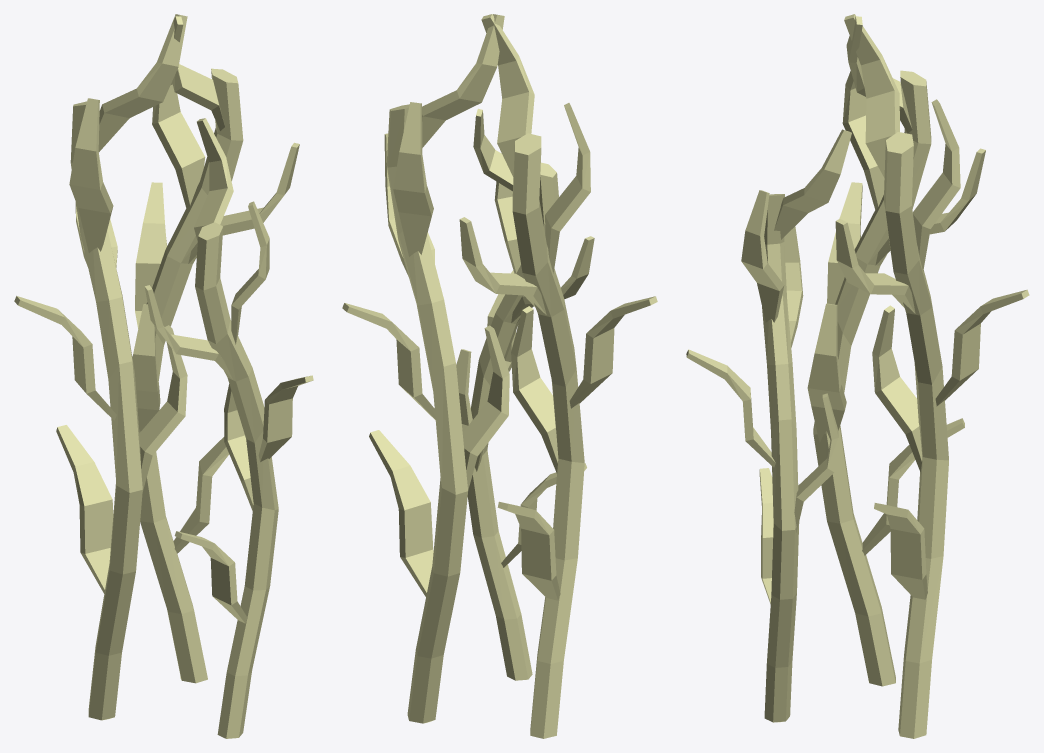
Rendered from seaweed.gltf.
3 views of the same model, side by side, from view 1: azimuth 30°, elevation 25°; view 2: azimuth 150°, elevation 25°; view 3: azimuth 270°, elevation 25° (orthographic).
Parts seen in each view (by area): view 1: Cylinder (×3), Cube.5 (×3), Cube (×3), Cube.4 (×3), Cube.3 (×3), Cube.1 (×3), Cube.2 (×2); view 2: Cylinder (×3), Cube (×3), Cube.4 (×3), Cube.5 (×3), Cube.1 (×3), Cube.3 (×2), Cube.2 (×3); view 3: Cylinder (×3), Cube.1 (×3), Cube.5 (×3), Cube.4 (×3), Cube (×3), Cube.3 (×3), Cube.2 (×3).
Part boxes in pixels (x1=…): Cylinder (×3): x1=70, y1=68, x2=278, y2=738; Cube.5 (×3): x1=69, y1=82, x2=269, y2=344; Cube (×3): x1=56, y1=425, x2=247, y2=623; Cube.4 (×3): x1=98, y1=14, x2=233, y2=241; Cube.3 (×3): x1=14, y1=182, x2=313, y2=462; Cube.1 (×3): x1=132, y1=304, x2=253, y2=510; Cube.2 (×2): x1=144, y1=142, x2=299, y2=379; Cylinder (×3): x1=386, y1=104, x2=584, y2=738; Cube (×3): x1=369, y1=430, x2=586, y2=600; Cube.4 (×3): x1=422, y1=14, x2=534, y2=191; Cube.5 (×3): x1=393, y1=102, x2=590, y2=273; Cube.1 (×3): x1=456, y1=306, x2=558, y2=490; Cube.3 (×2): x1=342, y1=296, x2=657, y2=423; Cube.2 (×3): x1=384, y1=133, x2=594, y2=322; Cylinder (×3): x1=762, y1=70, x2=948, y2=738; Cube.1 (×3): x1=794, y1=303, x2=922, y2=532; Cube.5 (×3): x1=741, y1=71, x2=960, y2=322; Cube.4 (×3): x1=774, y1=14, x2=912, y2=239; Cube (×3): x1=759, y1=418, x2=964, y2=603; Cube.3 (×3): x1=686, y1=182, x2=1029, y2=467; Cube.2 (×3): x1=784, y1=148, x2=985, y2=347.
Bounding box in the file's own units: 58.54 × 140 × 62.46.
